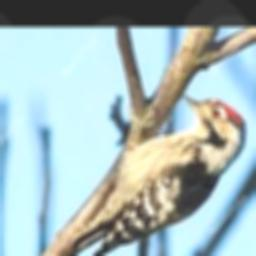Woodpecker: (69, 94, 245, 256)
